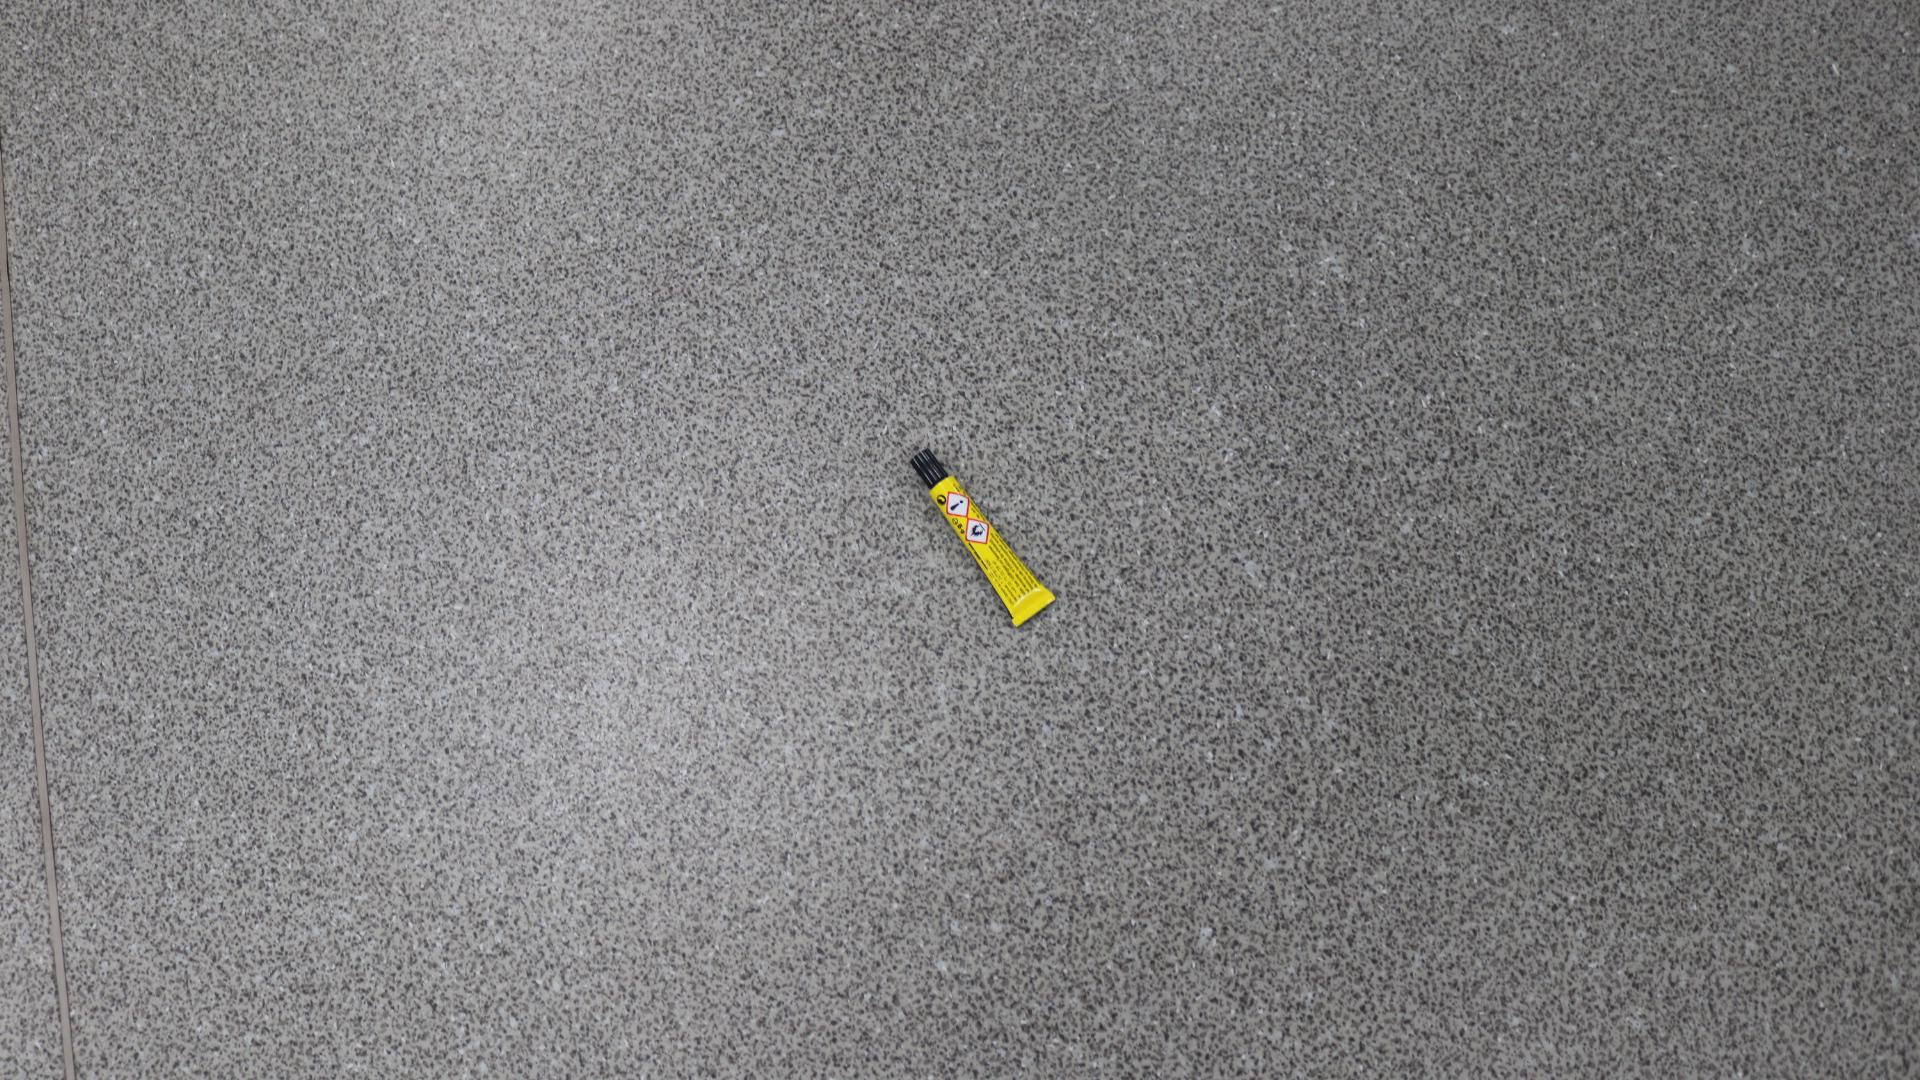Head: (926, 466, 932, 472)
Tail: (1030, 608, 1035, 613)
Tube: (910, 448, 1056, 629)
